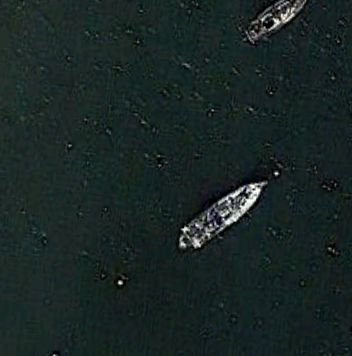boat: (179, 176, 271, 250), (240, 1, 310, 46)
